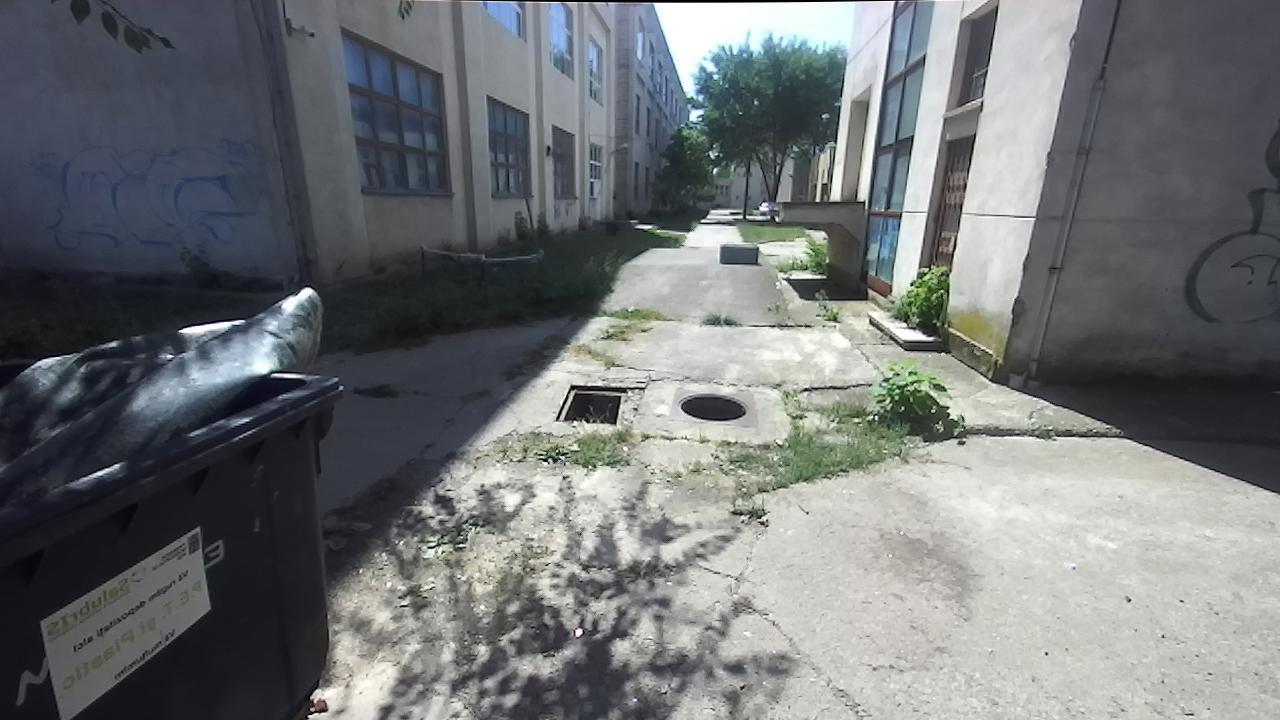drain: (550, 383, 630, 426), (669, 389, 750, 424)
